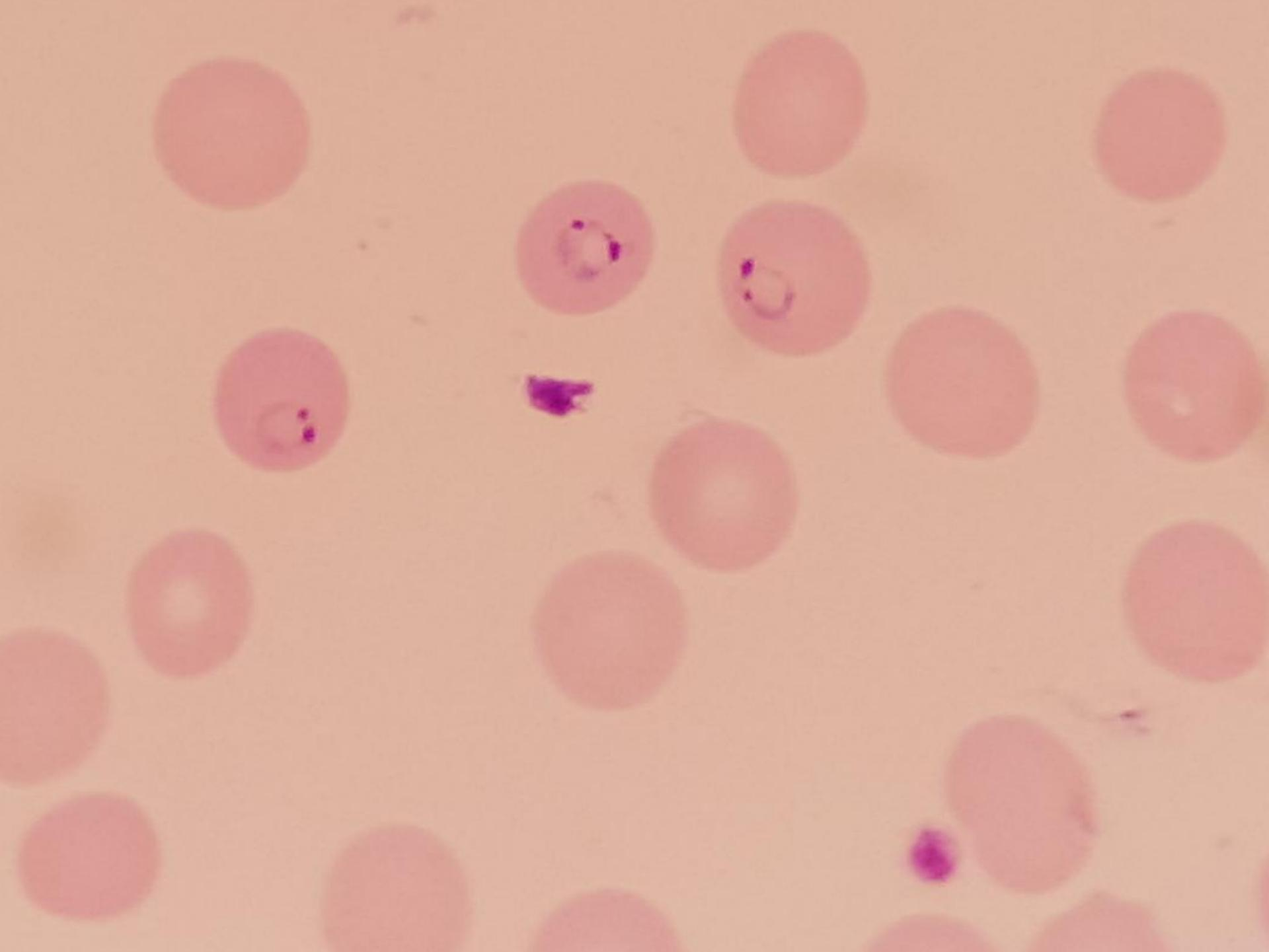Infected: (719, 200, 869, 355), (512, 179, 662, 320), (210, 329, 354, 474)
Uninfected: (943, 719, 1099, 891), (534, 549, 692, 715), (152, 60, 314, 212), (1122, 519, 1269, 686), (651, 417, 798, 575), (1117, 309, 1265, 463), (891, 308, 1037, 458), (735, 28, 872, 181), (322, 823, 473, 952), (18, 788, 162, 919), (127, 529, 256, 673), (1092, 66, 1227, 201), (0, 628, 111, 785)
